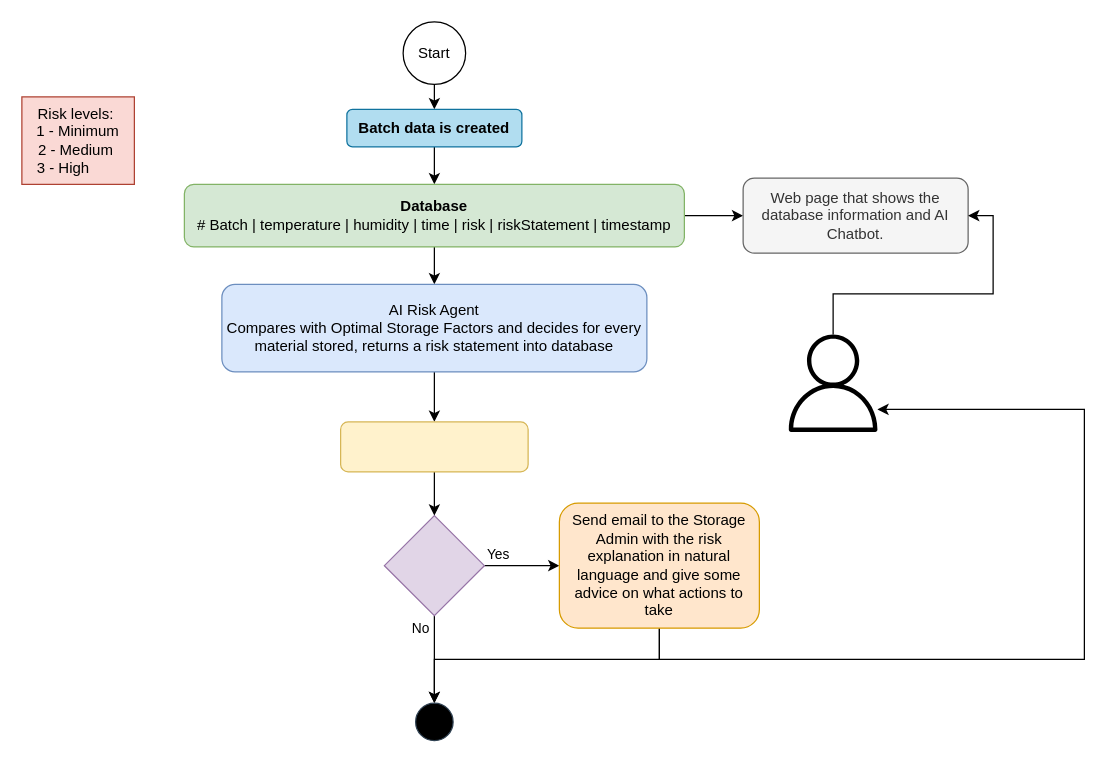
The diagram is 1116 pixels wide and 763 high, and some of its shapes have lost their labels. The shapes that lost their labels are listed below. From the top down, each one's box as (x1, y1, x2, y2) in pixels, then its label:
(784, 334, 881, 431): System User
(339, 421, 528, 472): Write risk statement into batch in database
(383, 514, 484, 616): ¿Risk > 1?
(414, 702, 453, 741): End
